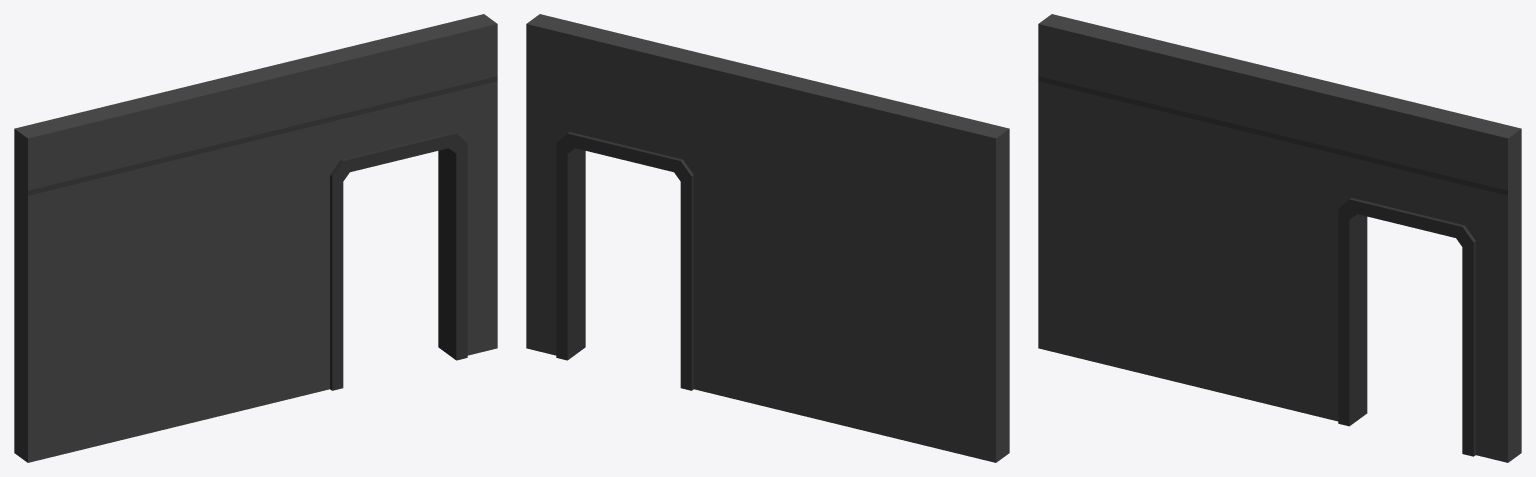
File: SM_BuildingPart_27.fbx
3 renders of one model, left to right at view 1: azimuth 30°, elevation 25°; view 2: azimuth 150°, elevation 25°; view 3: azimuth 330°, elevation 25°, orthographic.
Visible parts, largest first — view 1: SM_BuildingPart_27; view 2: SM_BuildingPart_27; view 3: SM_BuildingPart_27.
Part boxes in pixels (bbox=[...]): SM_BuildingPart_27: bbox=[14, 14, 497, 462]; SM_BuildingPart_27: bbox=[526, 14, 1009, 462]; SM_BuildingPart_27: bbox=[1038, 14, 1521, 462].
Bounding box in the file's own units: 500 × 330 × 33.14.
